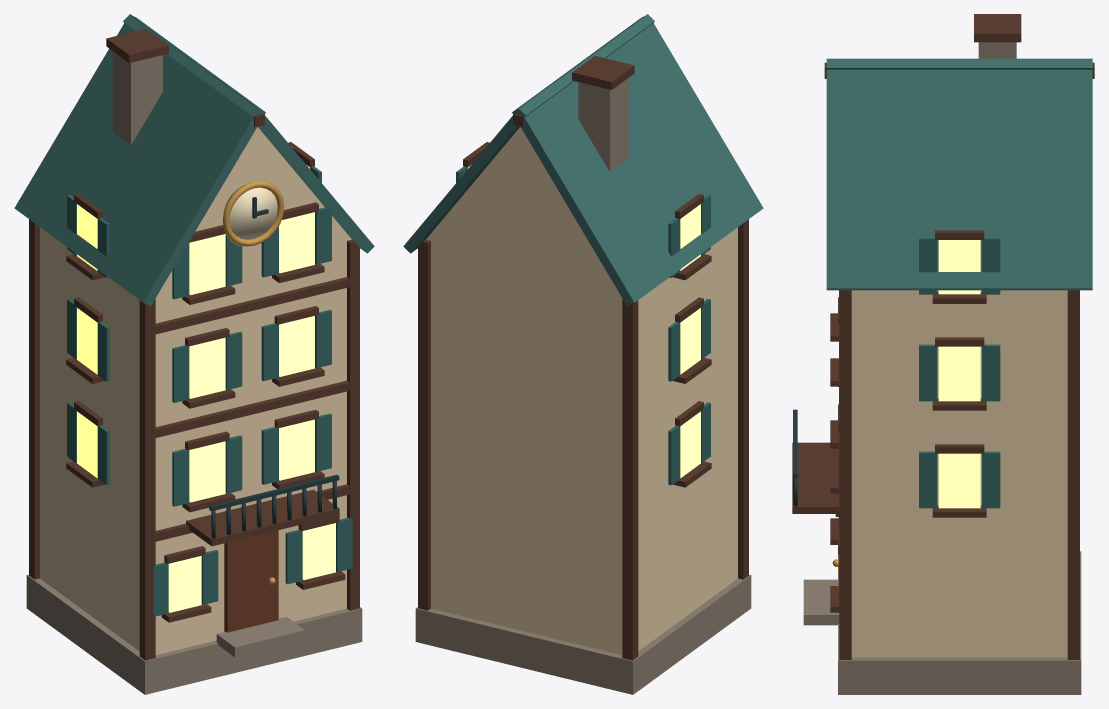
The model's file is townhouse-2.glb.
3 views of the same model, side by side, from view 1: azimuth 30°, elevation 25°; view 2: azimuth 150°, elevation 25°; view 3: azimuth 270°, elevation 25° (orthographic). The views are drawn at different scales.
Visible parts, largest first — view 1: townhouse-2; view 2: townhouse-2; view 3: townhouse-2.
Part boxes in pixels (box(x1,y1,x2,y2)): townhouse-2: box(14, 14, 374, 694); townhouse-2: box(403, 14, 763, 694); townhouse-2: box(792, 14, 1094, 694).
Bounding box in the file's own units: 3.62 × 8.66 × 3.98.
